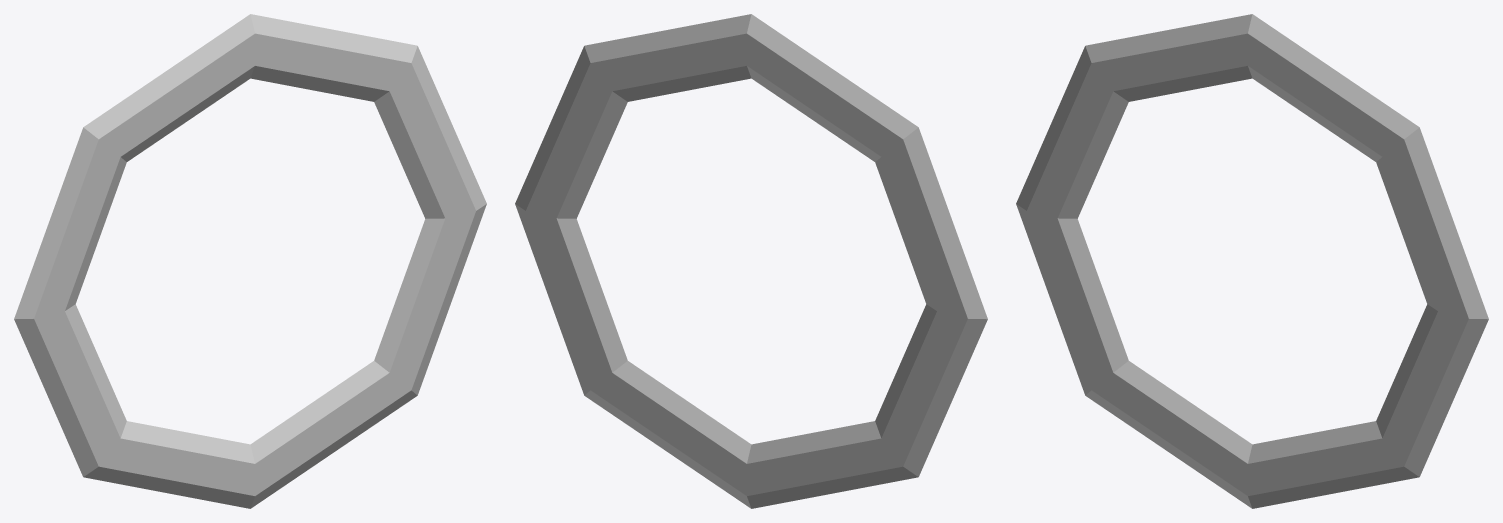
The model's file is magic_saucer.obj.
3 renders of one model, left to right at view 1: azimuth 30°, elevation 25°; view 2: azimuth 150°, elevation 25°; view 3: azimuth 330°, elevation 25°, orthographic.
Parts seen in each view (by area): view 1: Torus; view 2: Torus; view 3: Torus.
Part boxes in pixels (box(x1,y1,x2,y2)): Torus: box(14, 14, 486, 508); Torus: box(515, 14, 987, 508); Torus: box(1016, 14, 1488, 508).
Size of the model in its own units: 2.3 by 2.3 by 0.0779.
